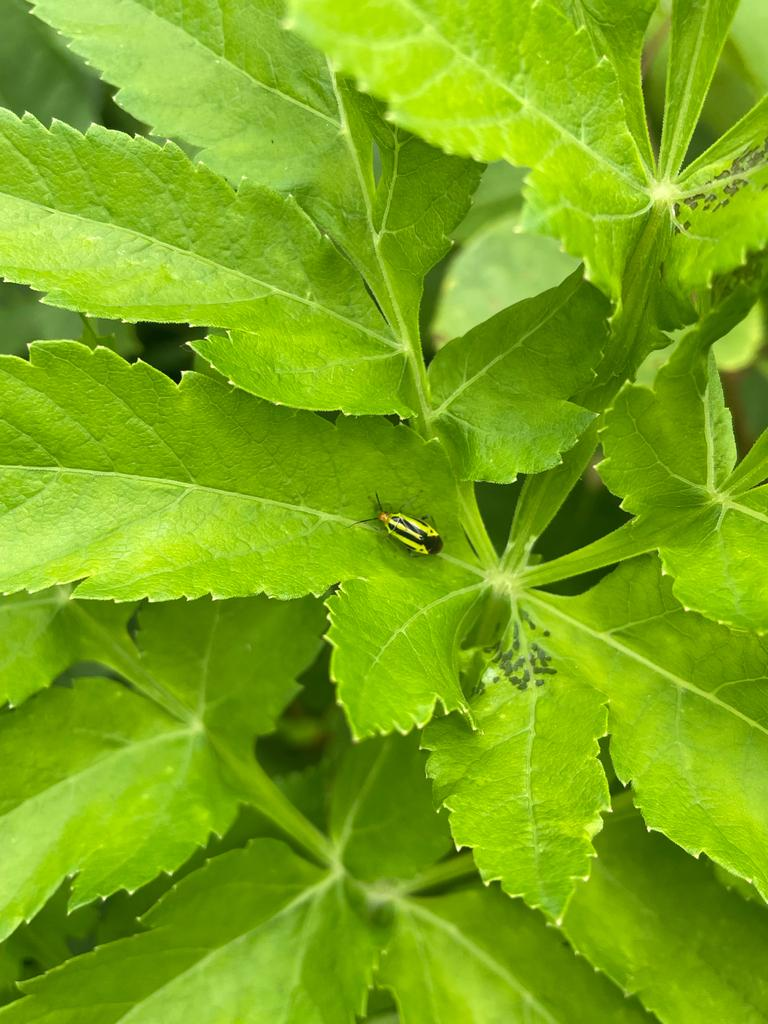plant_bugs: (331, 470, 464, 583)
